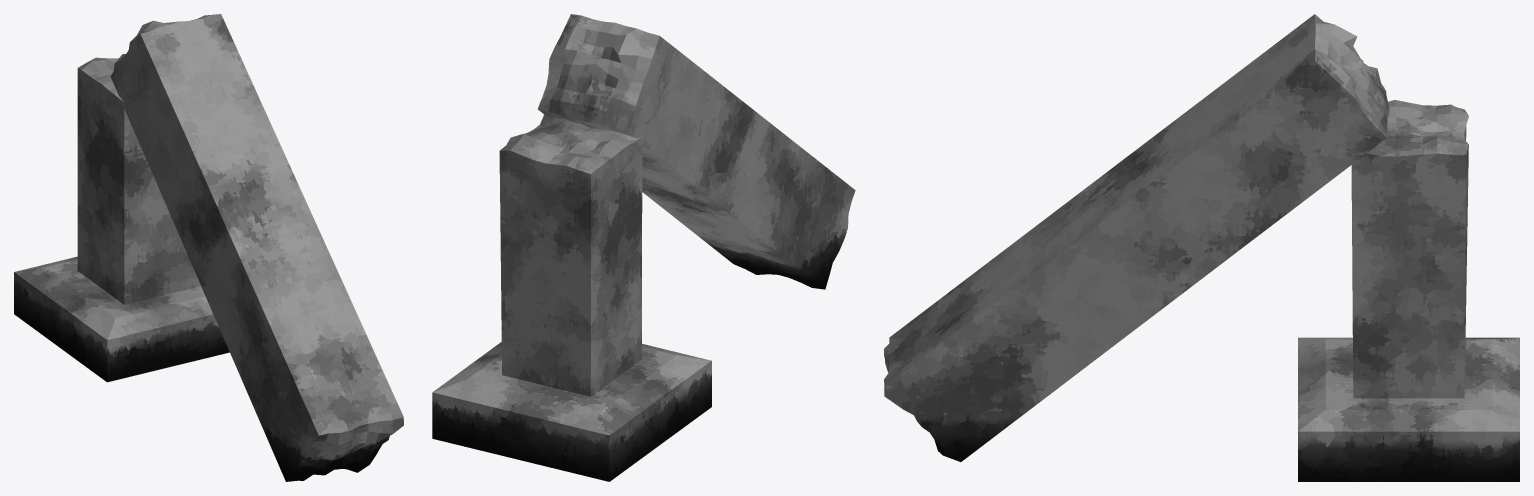
The model's file is PhilarRuin3.glb.
The picture shows the model from 3 angles, left to right: view 1: azimuth 30°, elevation 25°; view 2: azimuth 150°, elevation 25°; view 3: azimuth 270°, elevation 25°; orthographic projection. The views are drawn at different scales.
Parts seen in each view (by area): view 1: PhilarRuin3; view 2: PhilarRuin3; view 3: PhilarRuin3.
Boxes of the visible parts, box(x1,y1,x2,y2) form: PhilarRuin3: box(14, 14, 403, 481); PhilarRuin3: box(432, 14, 855, 481); PhilarRuin3: box(884, 14, 1519, 481).
Bounding box in the file's own units: 4 × 8.15 × 11.45.
Materials: 1 (1 with a texture image).
